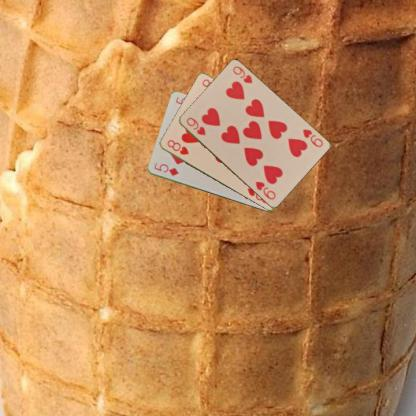5d: (151, 160, 180, 177)
8h: (164, 137, 190, 156)
9h: (300, 126, 324, 148), (184, 115, 207, 136)
